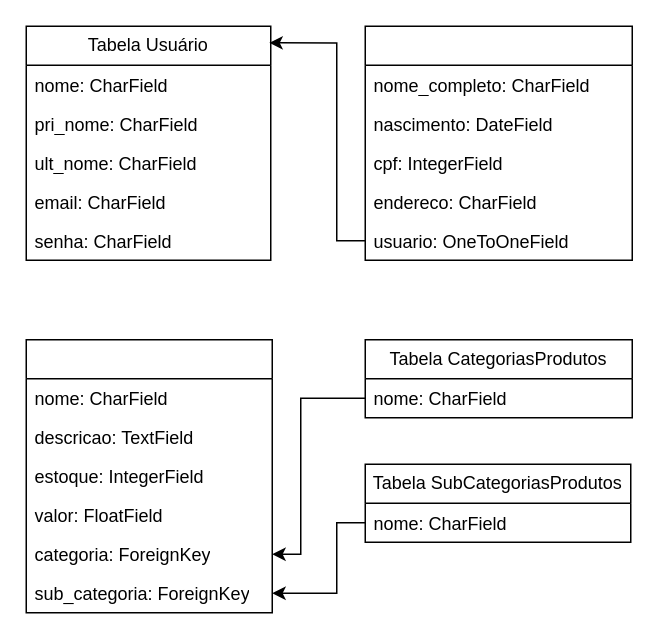
This 659x644 diagram has some shape labels left out. Each missing label, with the box of its shape:
Tabela Dados Pessoal: (364, 25, 632, 260)
Tabela Produtos: (25, 338, 272, 613)
